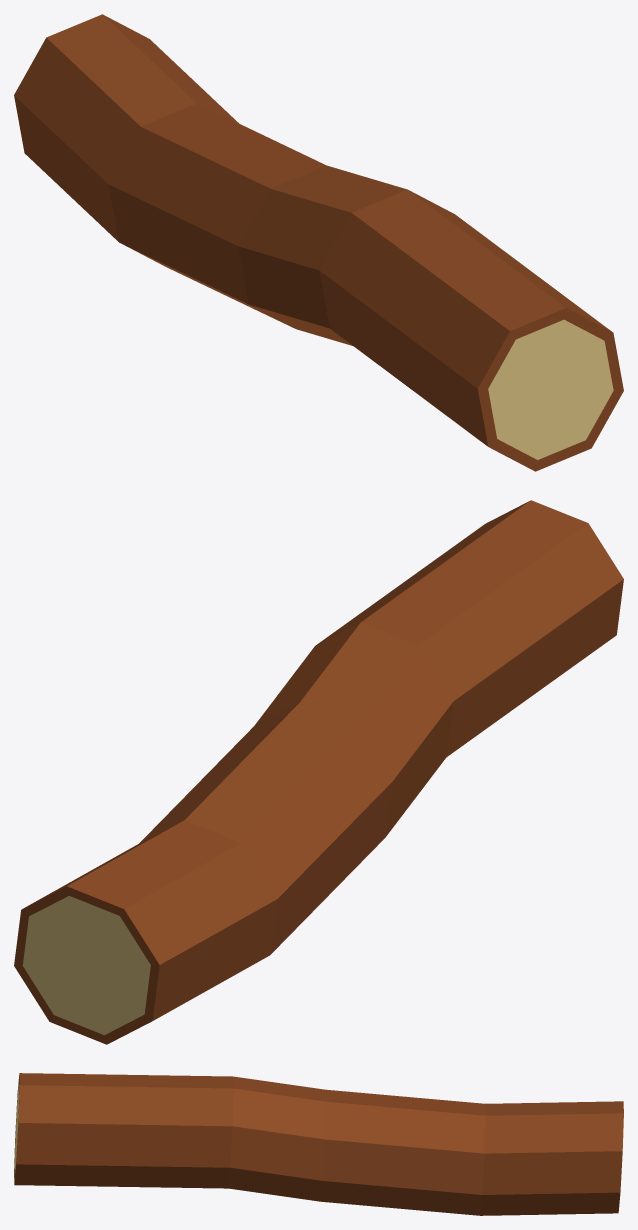
File: Log1.fbx
3 views of the same model, one above another, from view 1: azimuth 30°, elevation 25°; view 2: azimuth 150°, elevation 25°; view 3: azimuth 270°, elevation 25° (orthographic). The views are drawn at different scales.
Visible parts, largest first — view 1: Log_1; view 2: Log_1; view 3: Log_1.
Boxes of the visible parts, x1=… form: Log_1: x1=14, y1=14, x2=623, y2=471; Log_1: x1=14, y1=500, x2=623, y2=1044; Log_1: x1=14, y1=1073, x2=623, y2=1215.
Size of the model in its own units: 219 by 262 by 1081.
